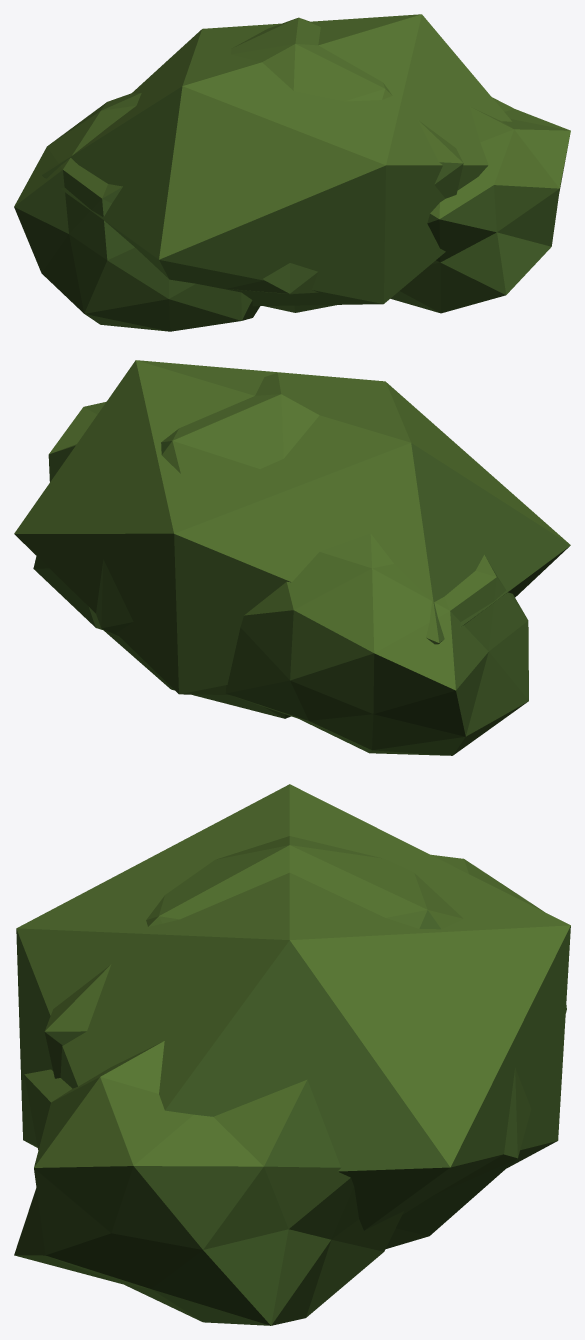
File: bush.glb
The picture shows the model from 3 angles, top to bottom: view 1: azimuth 30°, elevation 25°; view 2: azimuth 150°, elevation 25°; view 3: azimuth 270°, elevation 25°; orthographic projection. The views are drawn at different scales.
Parts seen in each view (by area): view 1: lod1_leaves, lod0_leaves2, lod0_leaves1, lod0_leaves0; view 2: lod1_leaves, lod0_leaves2, lod0_leaves0, lod0_leaves1; view 3: lod1_leaves, lod0_leaves1, lod0_leaves0, lod0_leaves2.
Part boxes in pixels (<box>): lod1_leaves: <box>42,14,511,306</box>; lod0_leaves2: <box>14,93,260,331</box>; lod0_leaves1: <box>390,97,570,313</box>; lod0_leaves0: <box>226,17,463,312</box>; lod1_leaves: <box>14,360,570,694</box>; lod0_leaves2: <box>225,533,528,755</box>; lod0_leaves0: <box>96,373,339,718</box>; lod0_leaves1: <box>33,401,106,629</box>; lod1_leaves: <box>16,784,570,1230</box>; lod0_leaves1: <box>14,1041,403,1325</box>; lod0_leaves0: <box>44,836,531,1248</box>; lod0_leaves2: <box>431,854,566,1013</box>.
Bounding box in the file's own units: 2.23 × 1.3 × 1.61.
